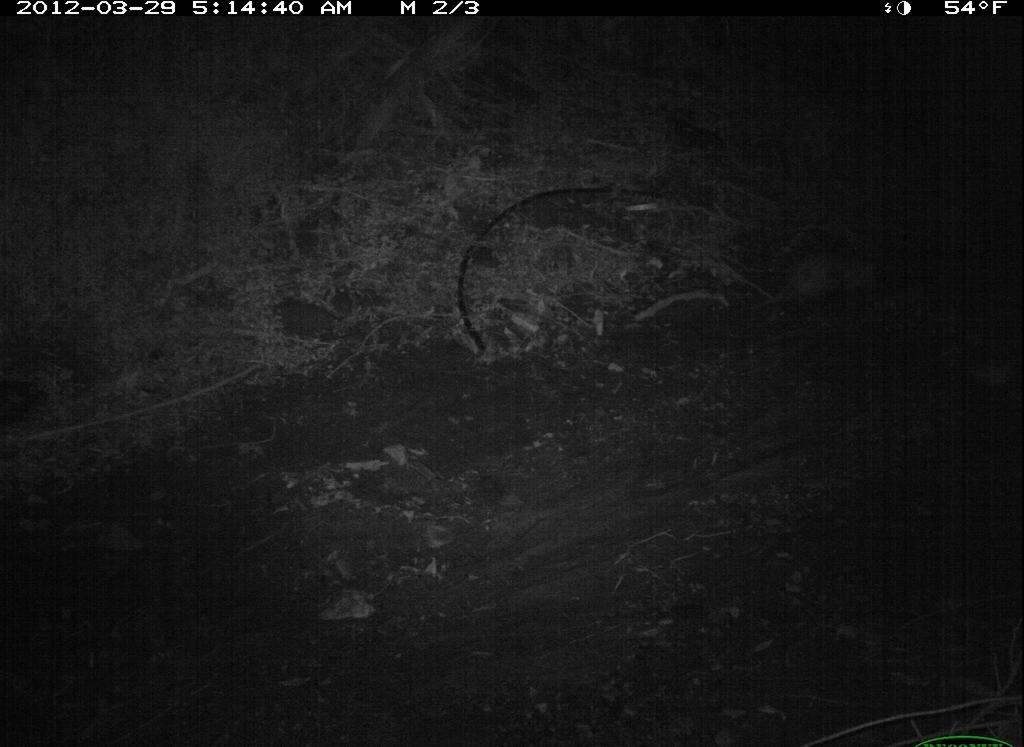opossum: (735, 241, 897, 326)
